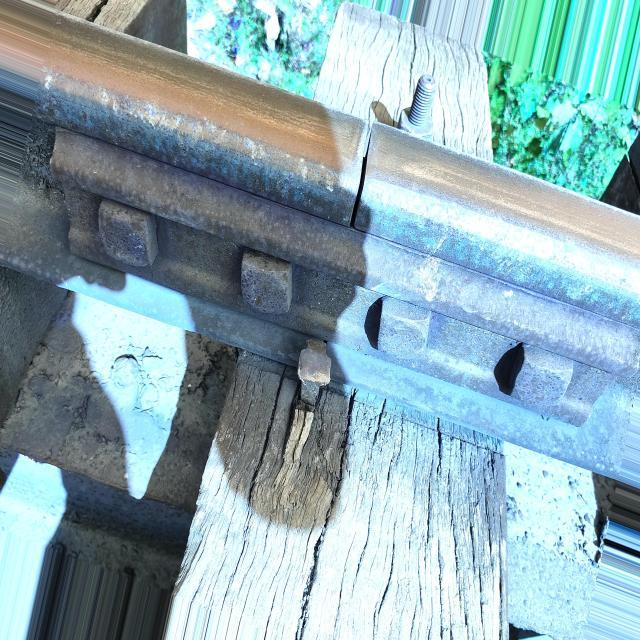Good Joint: (38, 123, 625, 433)
